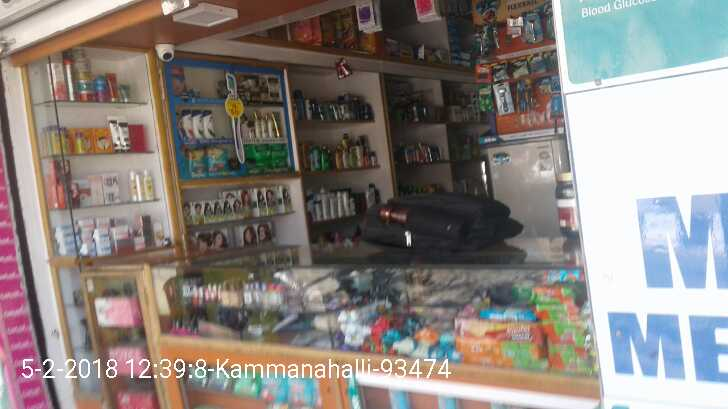beauty: (191, 110, 204, 138), (203, 111, 216, 138), (181, 110, 192, 137), (266, 115, 275, 136), (259, 118, 268, 138), (255, 119, 261, 139)
pharmacy: (205, 147, 228, 170), (185, 149, 207, 173), (270, 145, 287, 159)
